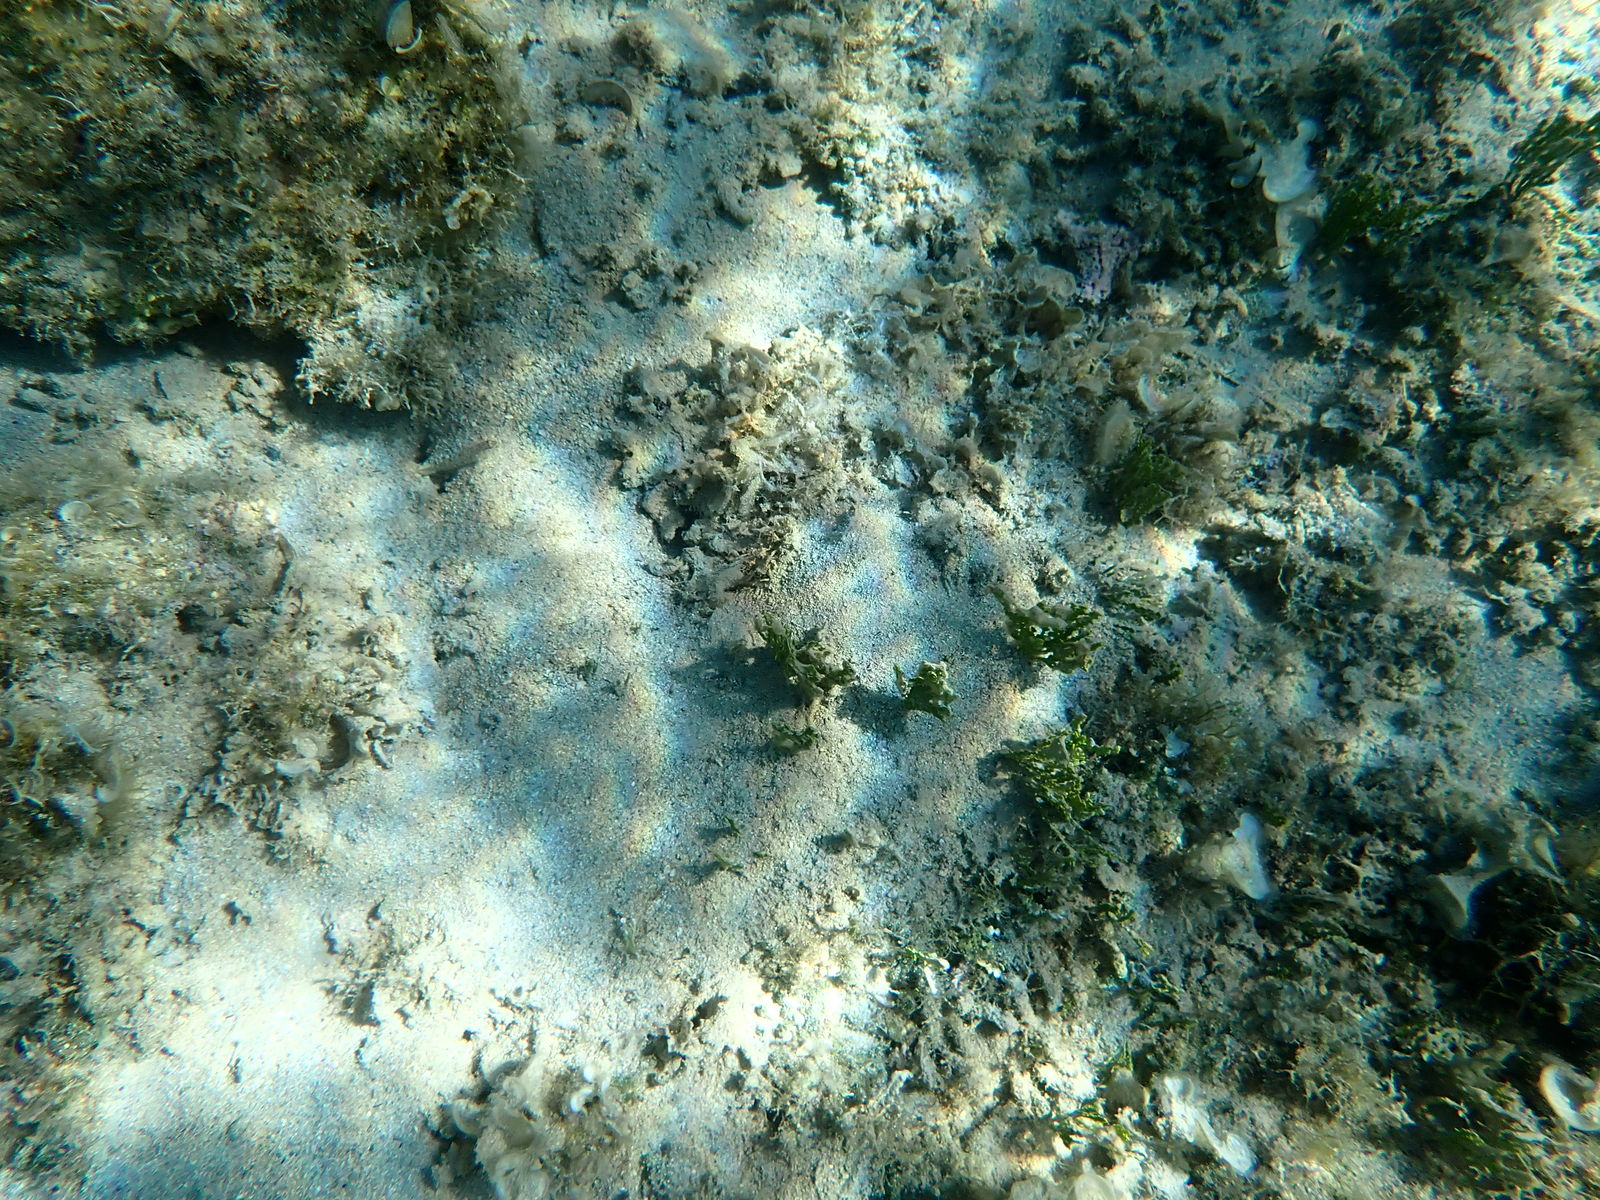halimeda: (997, 713, 1120, 805), (990, 586, 1102, 676), (751, 610, 860, 701), (1022, 805, 1128, 892), (1514, 106, 1594, 192), (1110, 434, 1188, 521), (1327, 175, 1425, 238), (1052, 1099, 1143, 1158), (889, 655, 959, 722), (1100, 570, 1175, 618), (1104, 887, 1154, 955), (889, 942, 950, 998), (959, 923, 1004, 979), (1453, 1119, 1500, 1163), (769, 716, 823, 749), (974, 884, 1005, 930), (1151, 972, 1184, 1001), (1101, 1047, 1135, 1069), (713, 850, 742, 874), (727, 816, 743, 833), (755, 850, 769, 862)
